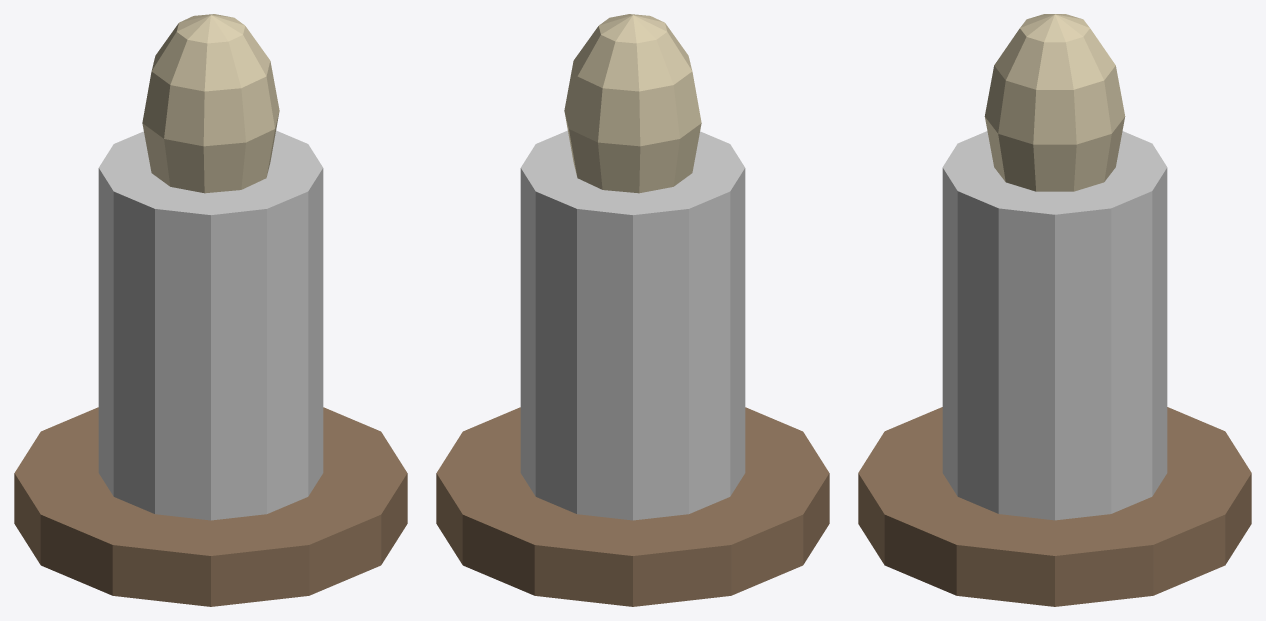
Rendered from ilu_vela_led.glb.
3 views of the same model, side by side, from view 1: azimuth 30°, elevation 25°; view 2: azimuth 150°, elevation 25°; view 3: azimuth 270°, elevation 25° (orthographic).
Visible parts, largest first — view 1: ILU_Vela_Led_v01; view 2: ILU_Vela_Led_v01; view 3: ILU_Vela_Led_v01.
Boxes of the visible parts, box(x1,y1,x2,y2) form: ILU_Vela_Led_v01: box(14, 14, 407, 606); ILU_Vela_Led_v01: box(436, 14, 829, 606); ILU_Vela_Led_v01: box(858, 14, 1251, 606).
Bounding box in the file's own units: 0.14 × 0.2 × 0.14.
